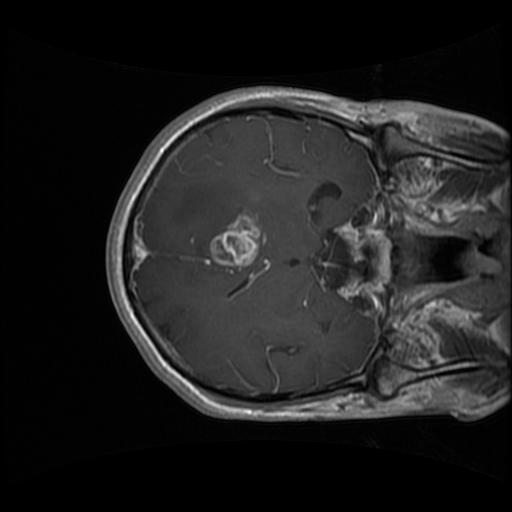glioma: (204, 204, 267, 273)
